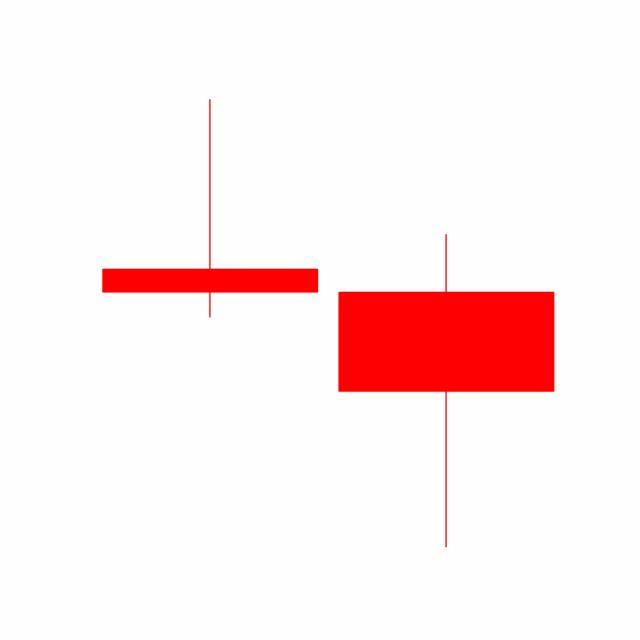Hammer: (328, 231, 566, 551)
